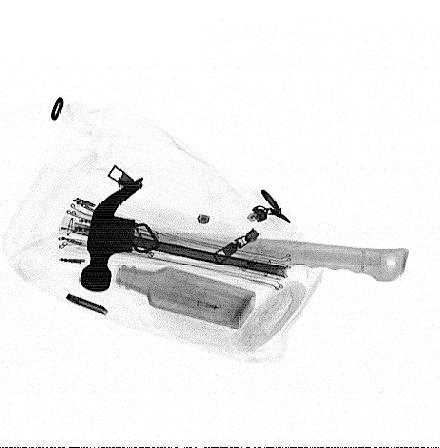Hammer: (79, 175, 410, 292)
